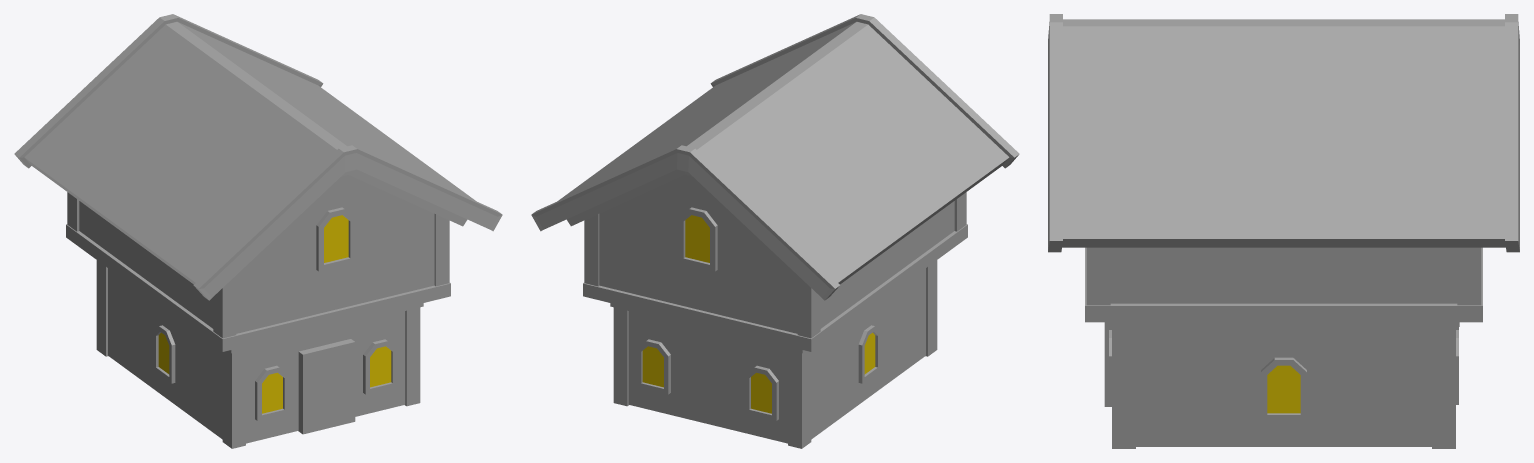
Rendered from SM_House_01.fbx.
3 views of the same model, side by side, from view 1: azimuth 30°, elevation 25°; view 2: azimuth 150°, elevation 25°; view 3: azimuth 270°, elevation 25° (orthographic). The views are drawn at different scales.
Parts seen in each view (by area): view 1: pCube2, pCube1, pCube8, pCube3, pCube20, pCube13, pCube15, pCube21; view 2: pCube2, pCube1, pCube8, pCube20, pCube13, pCube15, pCube21; view 3: pCube2, pCube1, pCube8, pCube13, pCube21.
Boxes of the visible parts, x1=… form: pCube2: x1=14, y1=14, x2=502, y2=300; pCube1: x1=66, y1=174, x2=450, y2=443; pCube8: x1=96, y1=260, x2=420, y2=448; pCube3: x1=298, y1=339, x2=355, y2=434; pCube20: x1=255, y1=339, x2=397, y2=420; pCube13: x1=67, y1=192, x2=449, y2=338; pCube15: x1=316, y1=207, x2=355, y2=271; pCube21: x1=153, y1=325, x2=175, y2=383; pCube2: x1=531, y1=14, x2=1019, y2=300; pCube1: x1=583, y1=174, x2=967, y2=443; pCube8: x1=613, y1=260, x2=937, y2=448; pCube20: x1=636, y1=339, x2=778, y2=420; pCube13: x1=584, y1=192, x2=966, y2=338; pCube15: x1=678, y1=207, x2=717, y2=271; pCube21: x1=858, y1=325, x2=880, y2=383; pCube2: x1=1048, y1=14, x2=1519, y2=252; pCube1: x1=1085, y1=247, x2=1482, y2=446; pCube8: x1=1112, y1=327, x2=1455, y2=448; pCube13: x1=1086, y1=247, x2=1481, y2=305; pCube21: x1=1261, y1=357, x2=1306, y2=420.
Bounding box in the file's own units: 1403 × 1293 × 1485.
